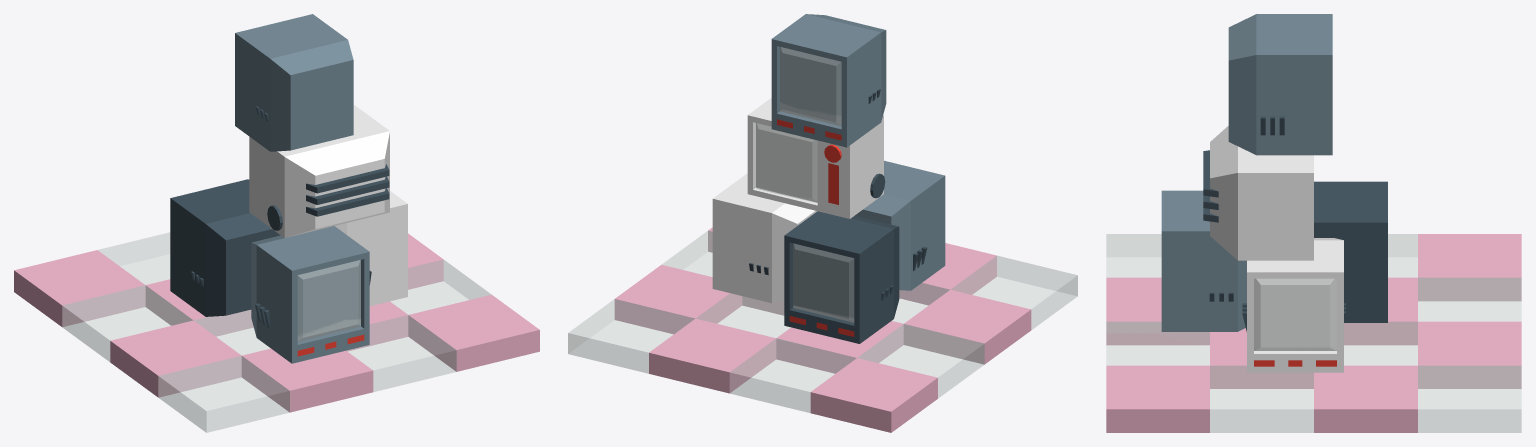
File: tvs.glb
The picture shows the model from 3 angles, left to right: view 1: azimuth 30°, elevation 25°; view 2: azimuth 150°, elevation 25°; view 3: azimuth 270°, elevation 25°; orthographic projection. The views are drawn at different scales.
Parts seen in each view (by area): view 1: group1915065900, group346603437, group1247307877, group267456734, group694125195, group2120891100; view 2: group1915065900, group346603437, group694125195, group267456734, group2120891100, group1247307877; view 3: group1915065900, group346603437, group267456734, group2120891100, group1247307877, group694125195.
Part boxes in pixels (x1=…): group1915065900: x1=14, y1=232, x2=539, y2=432; group346603437: x1=235, y1=14, x2=353, y2=151; group1247307877: x1=251, y1=226, x2=369, y2=363; group267456734: x1=249, y1=105, x2=389, y2=237; group694125195: x1=170, y1=179, x2=280, y2=316; group2120891100: x1=335, y1=191, x2=407, y2=305; group1915065900: x1=568, y1=227, x2=1077, y2=432; group346603437: x1=771, y1=14, x2=886, y2=147; group694125195: x1=784, y1=211, x2=899, y2=343; group267456734: x1=747, y1=98, x2=885, y2=218; group2120891100: x1=712, y1=173, x2=817, y2=303; group1247307877: x1=855, y1=160, x2=945, y2=290; group1915065900: x1=1106, y1=234, x2=1521, y2=432; group346603437: x1=1228, y1=14, x2=1332, y2=155; group267456734: x1=1203, y1=126, x2=1313, y2=260; group2120891100: x1=1242, y1=238, x2=1345, y2=372; group1247307877: x1=1161, y1=190, x2=1246, y2=331; group694125195: x1=1314, y1=181, x2=1387, y2=322.
Bounding box in the file's own units: 0.6 × 0.5 × 0.6.
